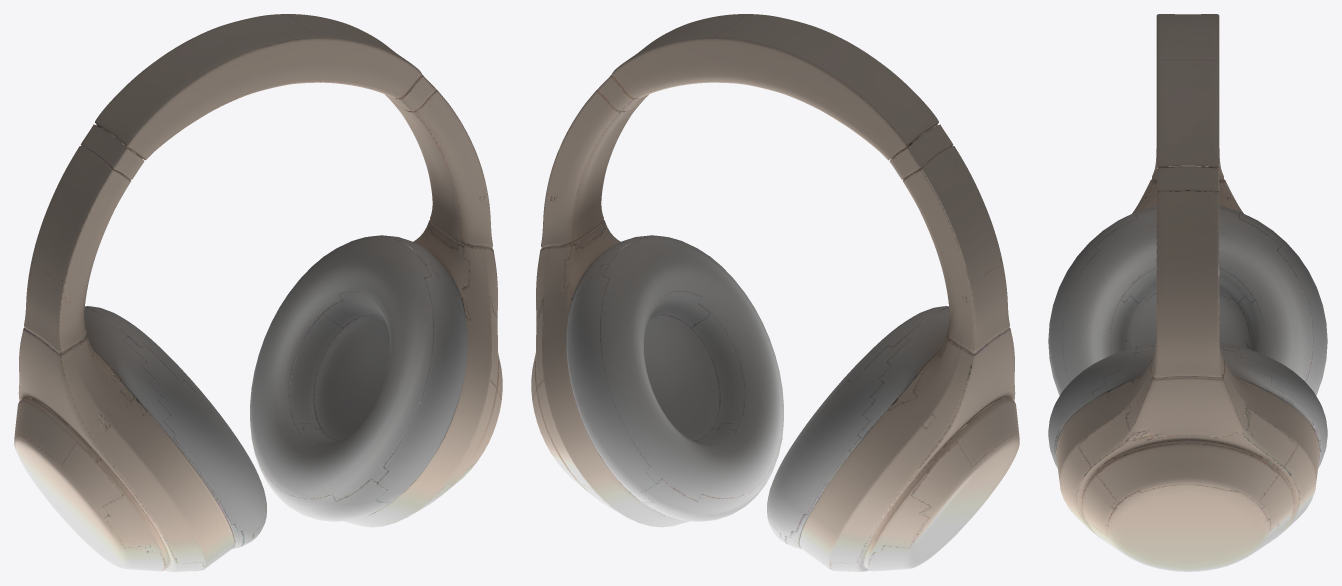
File: headphone_clean.glb
3 renders of one model, left to right at view 1: azimuth 30°, elevation 25°; view 2: azimuth 150°, elevation 25°; view 3: azimuth 270°, elevation 25°, orthographic. The views are drawn at different scales.
Visible parts, largest first — view 1: clean_headphones; view 2: clean_headphones; view 3: clean_headphones.
Boxes of the visible parts, left/top/right/bottom form: clean_headphones: left=14, top=14, right=502, bottom=571; clean_headphones: left=531, top=14, right=1019, bottom=571; clean_headphones: left=1048, top=14, right=1327, bottom=571.
Size of the model in its own units: 0.3696 by 0.3974 by 0.2095.
Materials: 2 (2 with a texture image).
